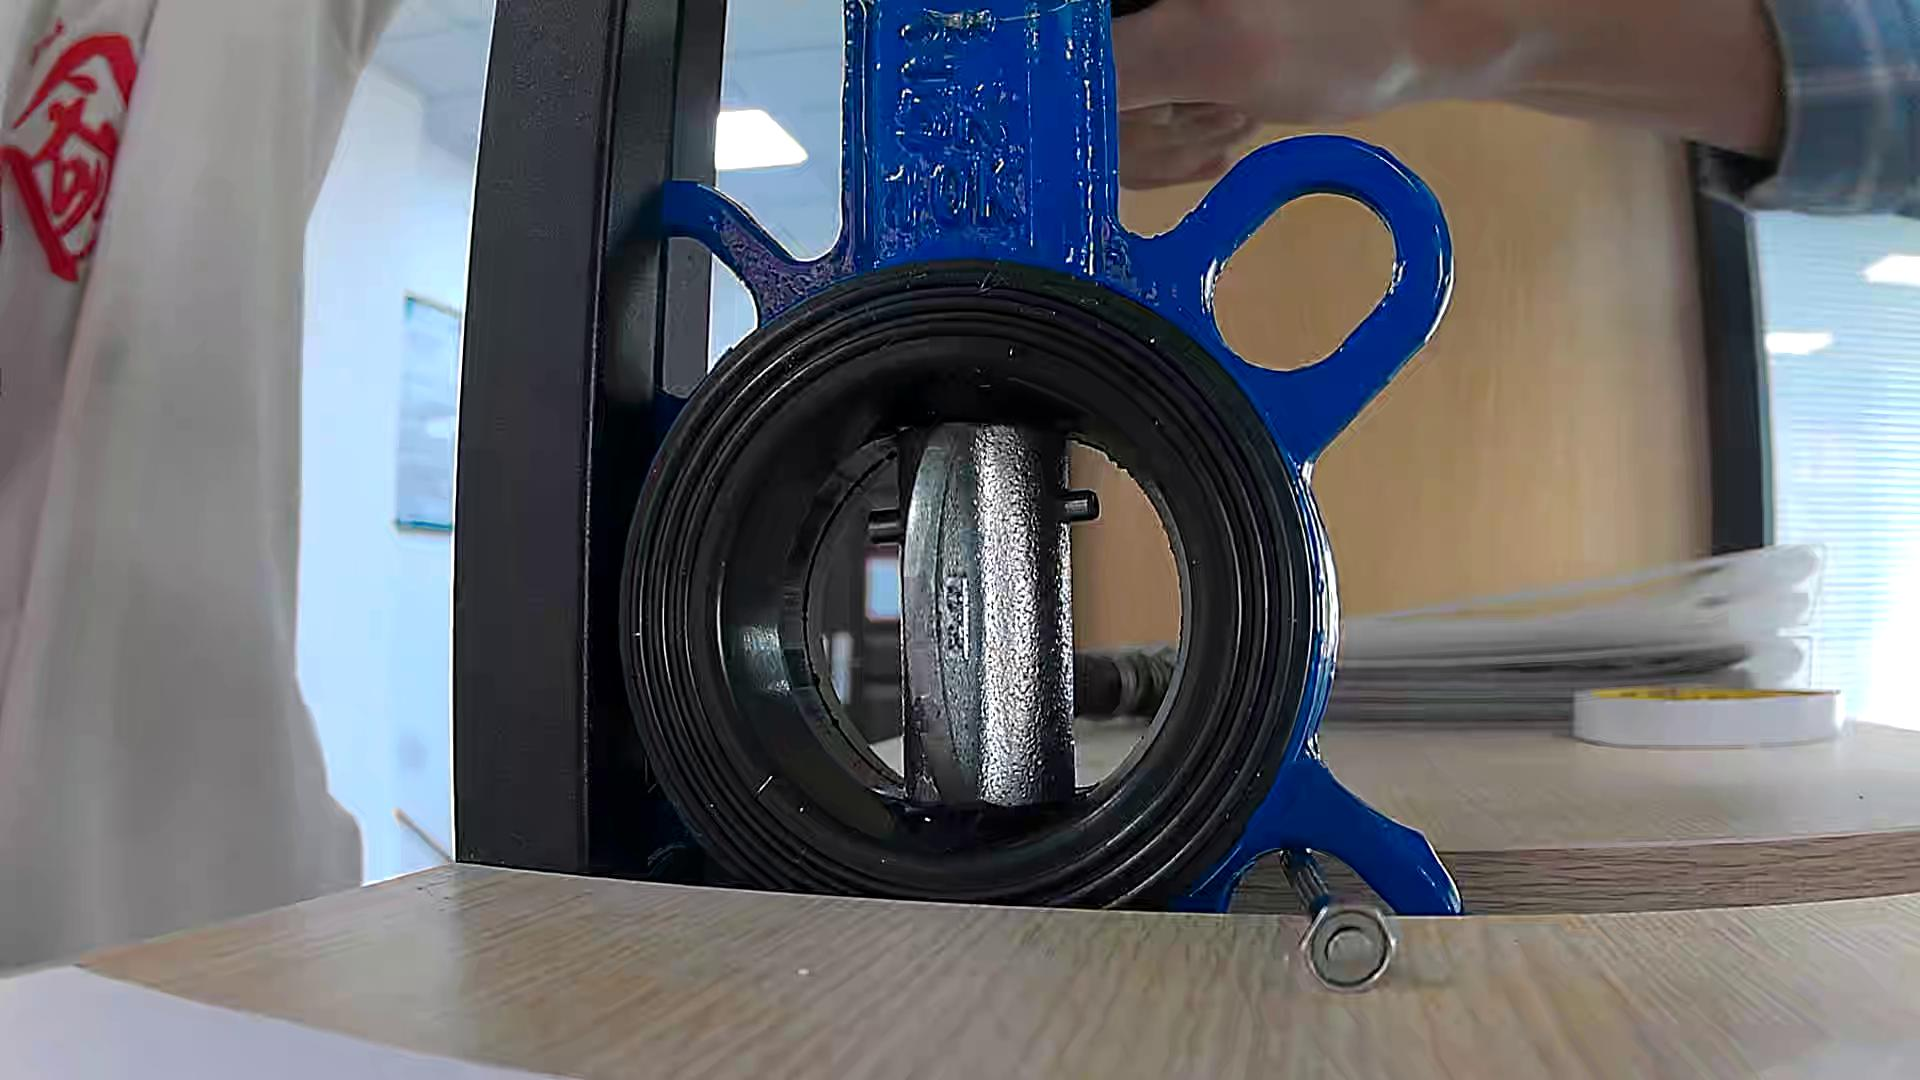valve: (899, 423, 1076, 806)
